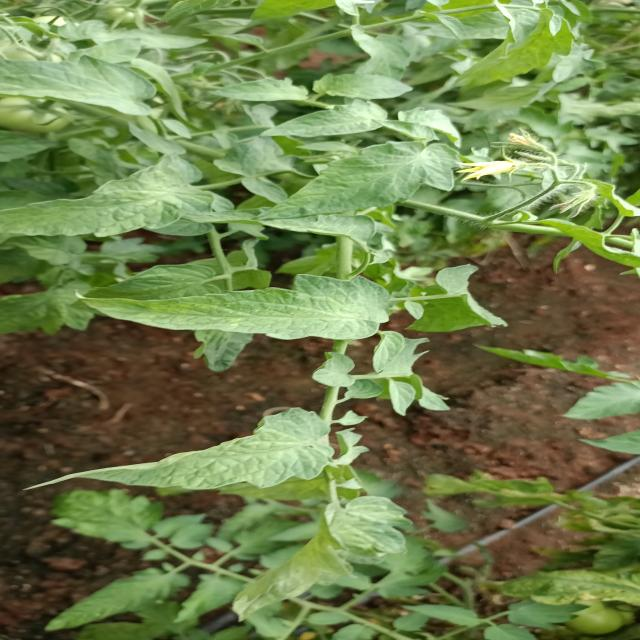Healthy Leaf: (22, 399, 347, 506), (53, 275, 397, 344), (256, 138, 464, 231)
